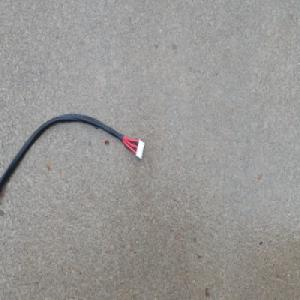Wire: (0, 112, 145, 200)
